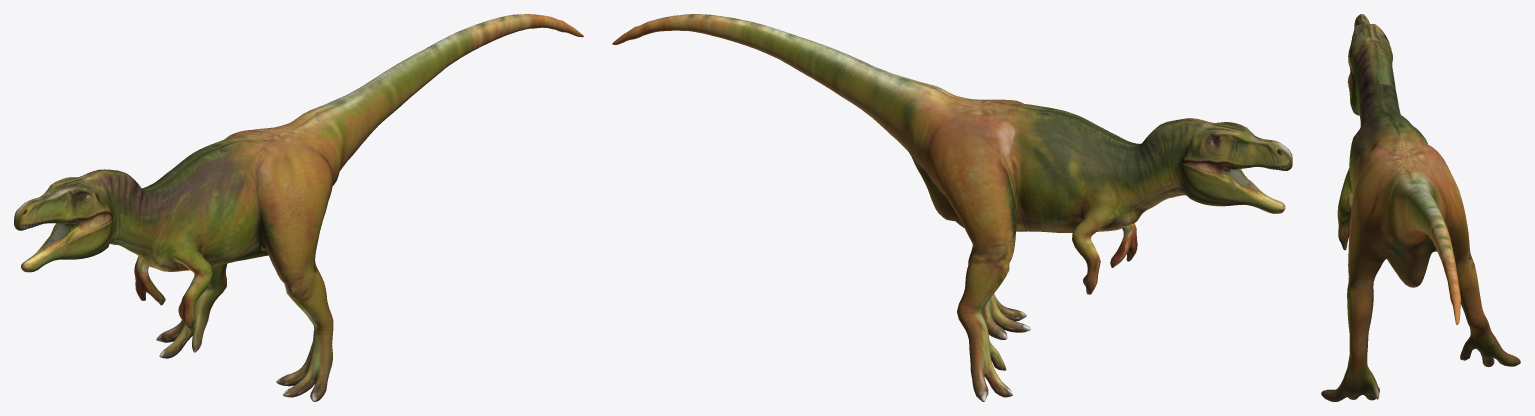
3 renders of one model, left to right at view 1: azimuth 30°, elevation 25°; view 2: azimuth 150°, elevation 25°; view 3: azimuth 270°, elevation 25°, orthographic. The views are drawn at different scales.
Visible parts, largest first — view 1: Mesh0; view 2: Mesh0; view 3: Mesh0.
Part boxes in pixels (x1,y1,x2,y2): Mesh0: [14, 14, 583, 401]; Mesh0: [612, 14, 1292, 401]; Mesh0: [1321, 14, 1520, 401].
Size of the model in its own units: 1.31 by 0.5715 by 0.366.
Materials: 1 (1 with a texture image).
